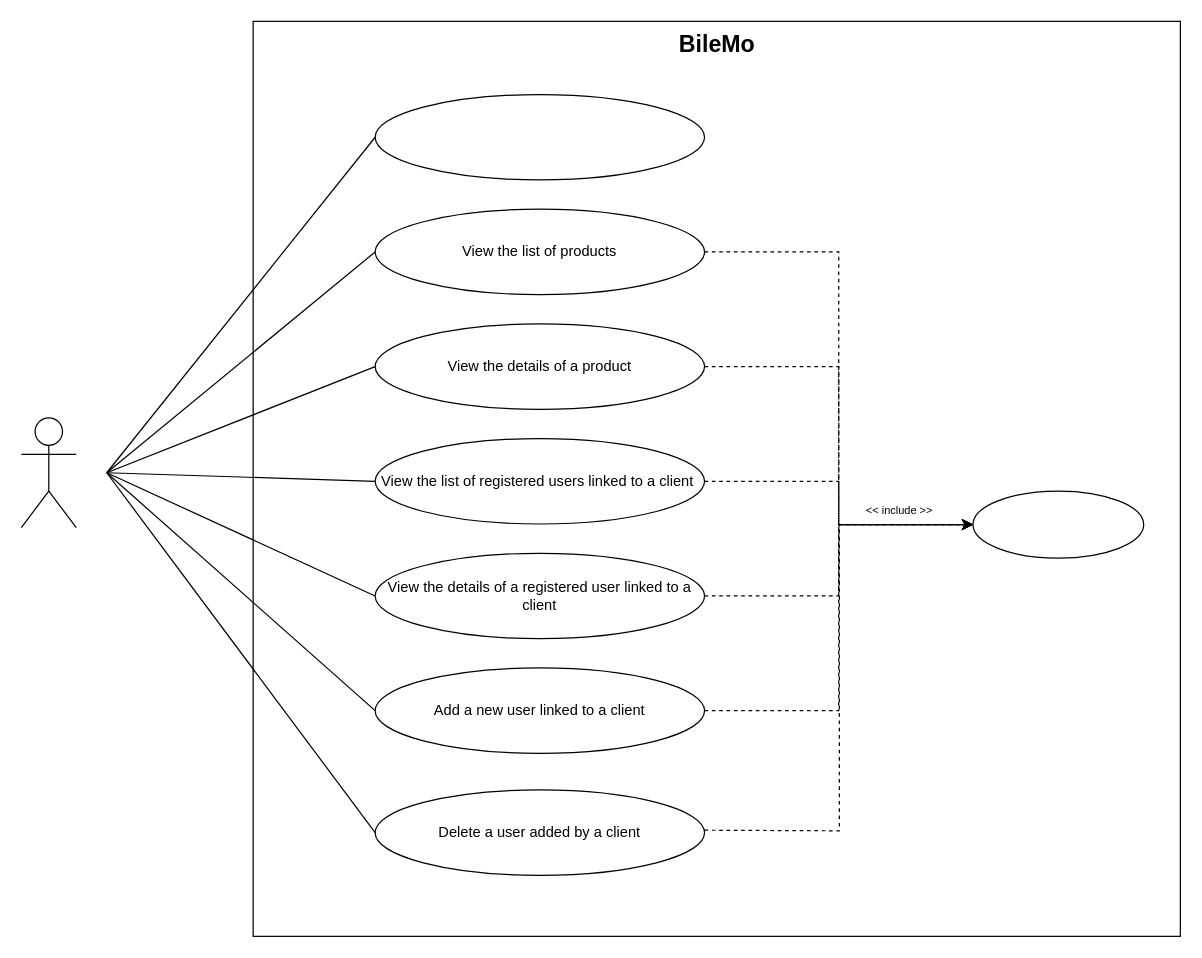
The diagram is 1202 pixels wide and 958 high, and some of its shapes have lost their labels. The centre of each missing label's shape, as x and y in pixels:
"Client" goes at [48,472].
"JWT Authentication" goes at [1058,524].
"Retrieve authentication token" goes at [539,136].
